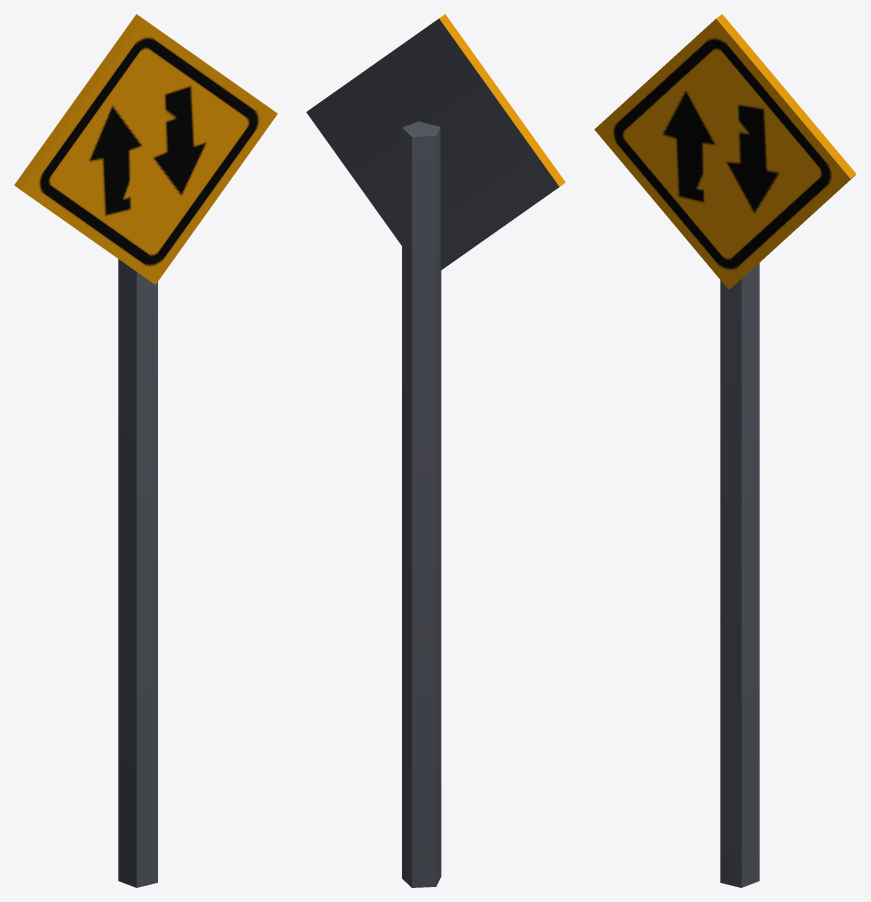
Rendered from SM_SignBoard_3.FBX.
3 renders of one model, left to right at view 1: azimuth 30°, elevation 25°; view 2: azimuth 150°, elevation 25°; view 3: azimuth 330°, elevation 25°, orthographic.
Parts seen in each view (by area): view 1: SM_SignBoard_3; view 2: SM_SignBoard_3; view 3: SM_SignBoard_3.
Boxes of the visible parts, bbox=[...] form: SM_SignBoard_3: bbox=[14, 14, 277, 887]; SM_SignBoard_3: bbox=[306, 14, 565, 887]; SM_SignBoard_3: bbox=[594, 14, 856, 887].
Size of what is drawn, in the model's own units: 98.88 by 16.1 by 320.
